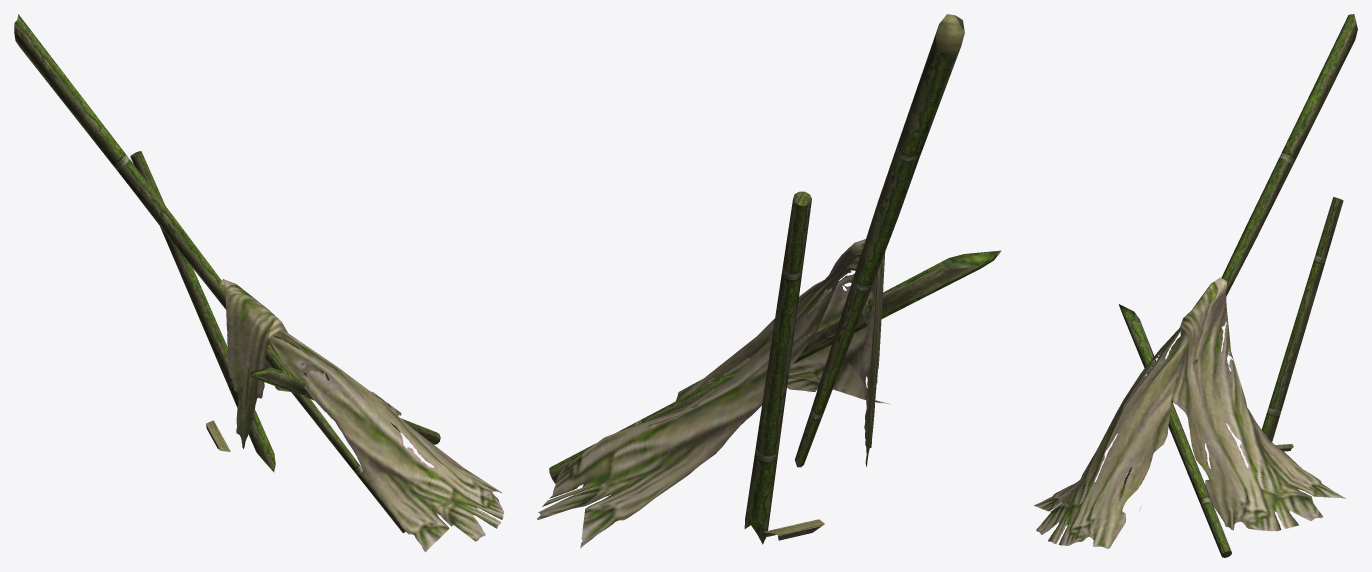
Rendered from 7001_Item_zhugan_1.FBX.
3 views of the same model, side by side, from view 1: azimuth 30°, elevation 25°; view 2: azimuth 150°, elevation 25°; view 3: azimuth 270°, elevation 25° (orthographic). The views are drawn at different scales.
Visible parts, largest first — view 1: 7001_Item_zhugan_1; view 2: 7001_Item_zhugan_1; view 3: 7001_Item_zhugan_1.
Part boxes in pixels (<box>): 7001_Item_zhugan_1: <box>14,14,503,552</box>; 7001_Item_zhugan_1: <box>537,14,1001,548</box>; 7001_Item_zhugan_1: <box>1034,14,1357,557</box>.
Size of the model in its own units: 1089 by 1391 by 1004.
